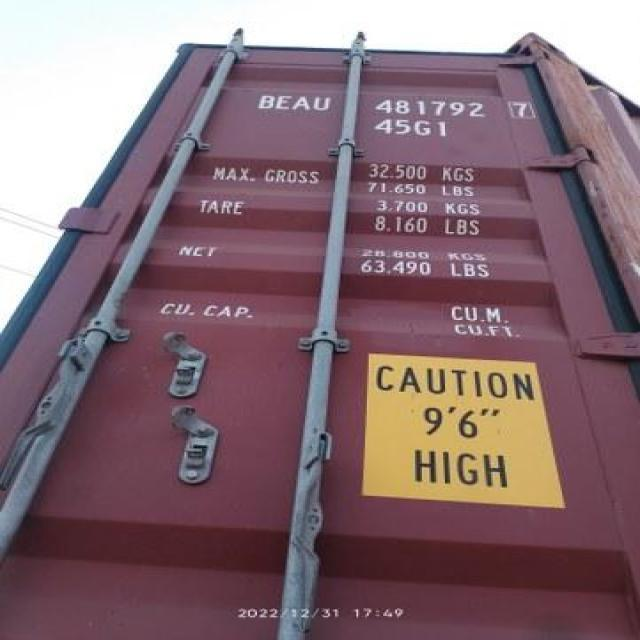ISO: (384, 120, 453, 138)
container_number: (248, 89, 533, 122), (383, 372, 532, 401)
